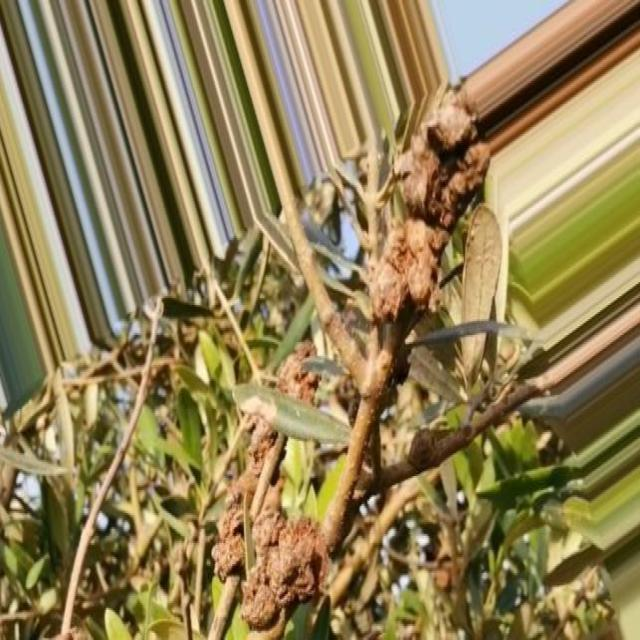Tuberculosis: (368, 99, 490, 344), (241, 508, 327, 638)
